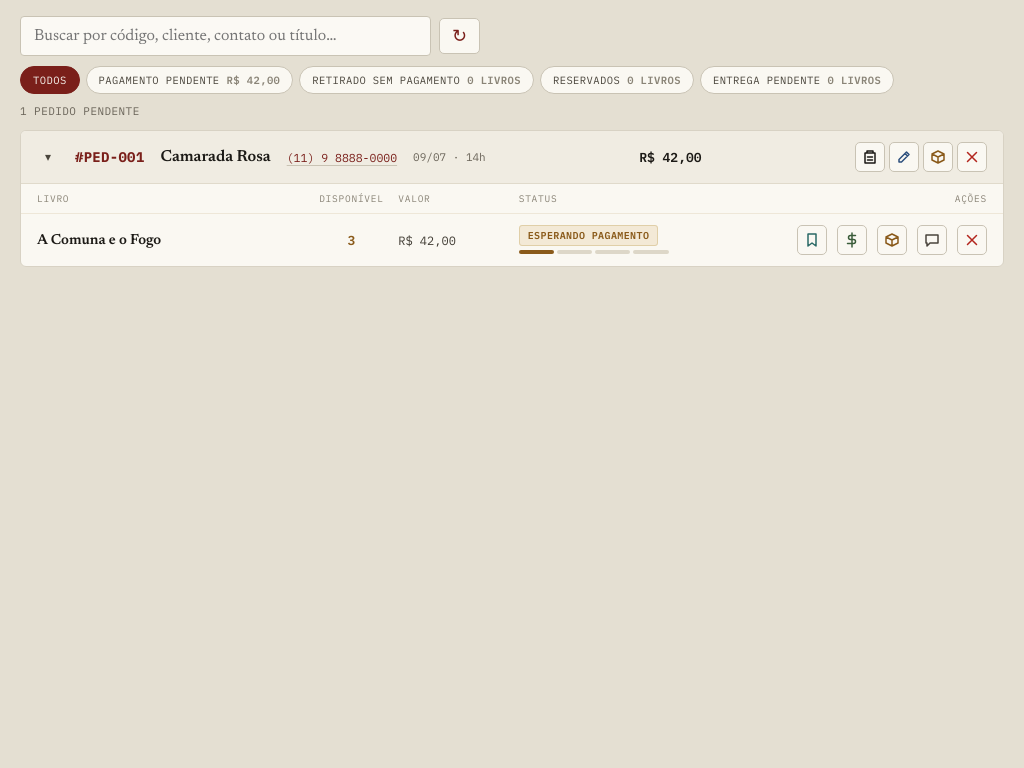
it: Backoffice — Pedidos (linhas por unidade) › reload após ação NÃO pisca a tela: lista continua visível durante o refresh
The image size is (1024, 768).
expect the text "A Comuna e o Fogo" is shown: met, box [37,232,161,248]
Click the button named "reservar".
click(812, 240)  # box [797,225,827,255]
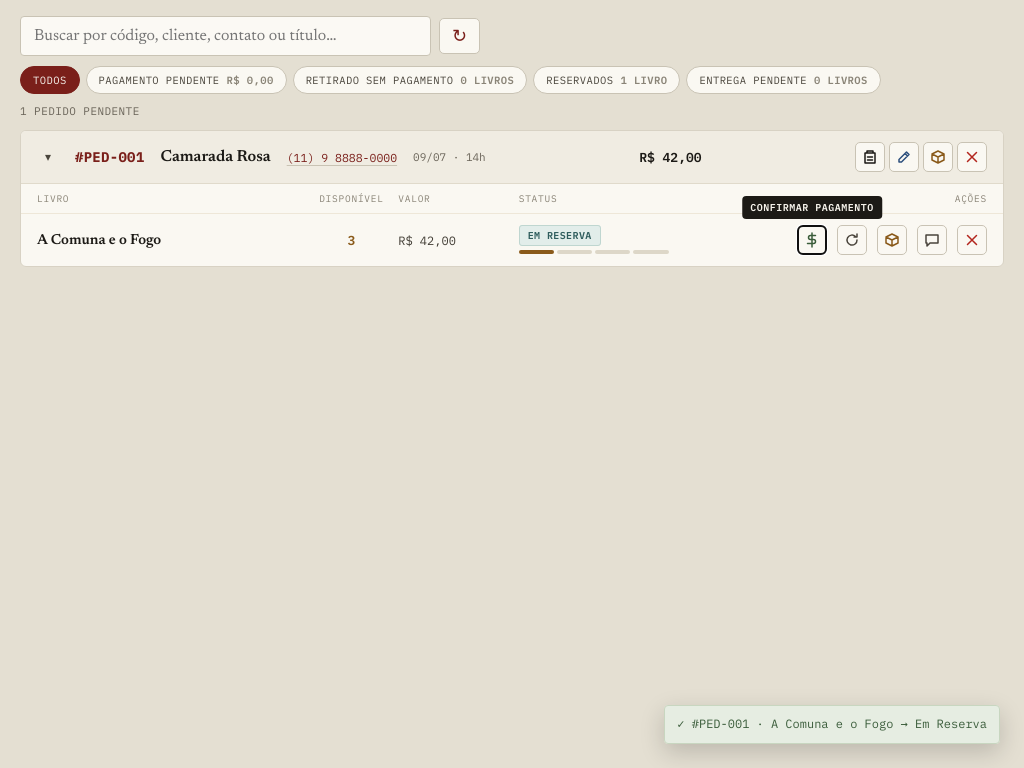
expect the text "A Comuna e o Fogo" is shown: met, box [37,232,161,248]
expect the text "Em Reserva" is shown: met, box [519,224,601,246]
